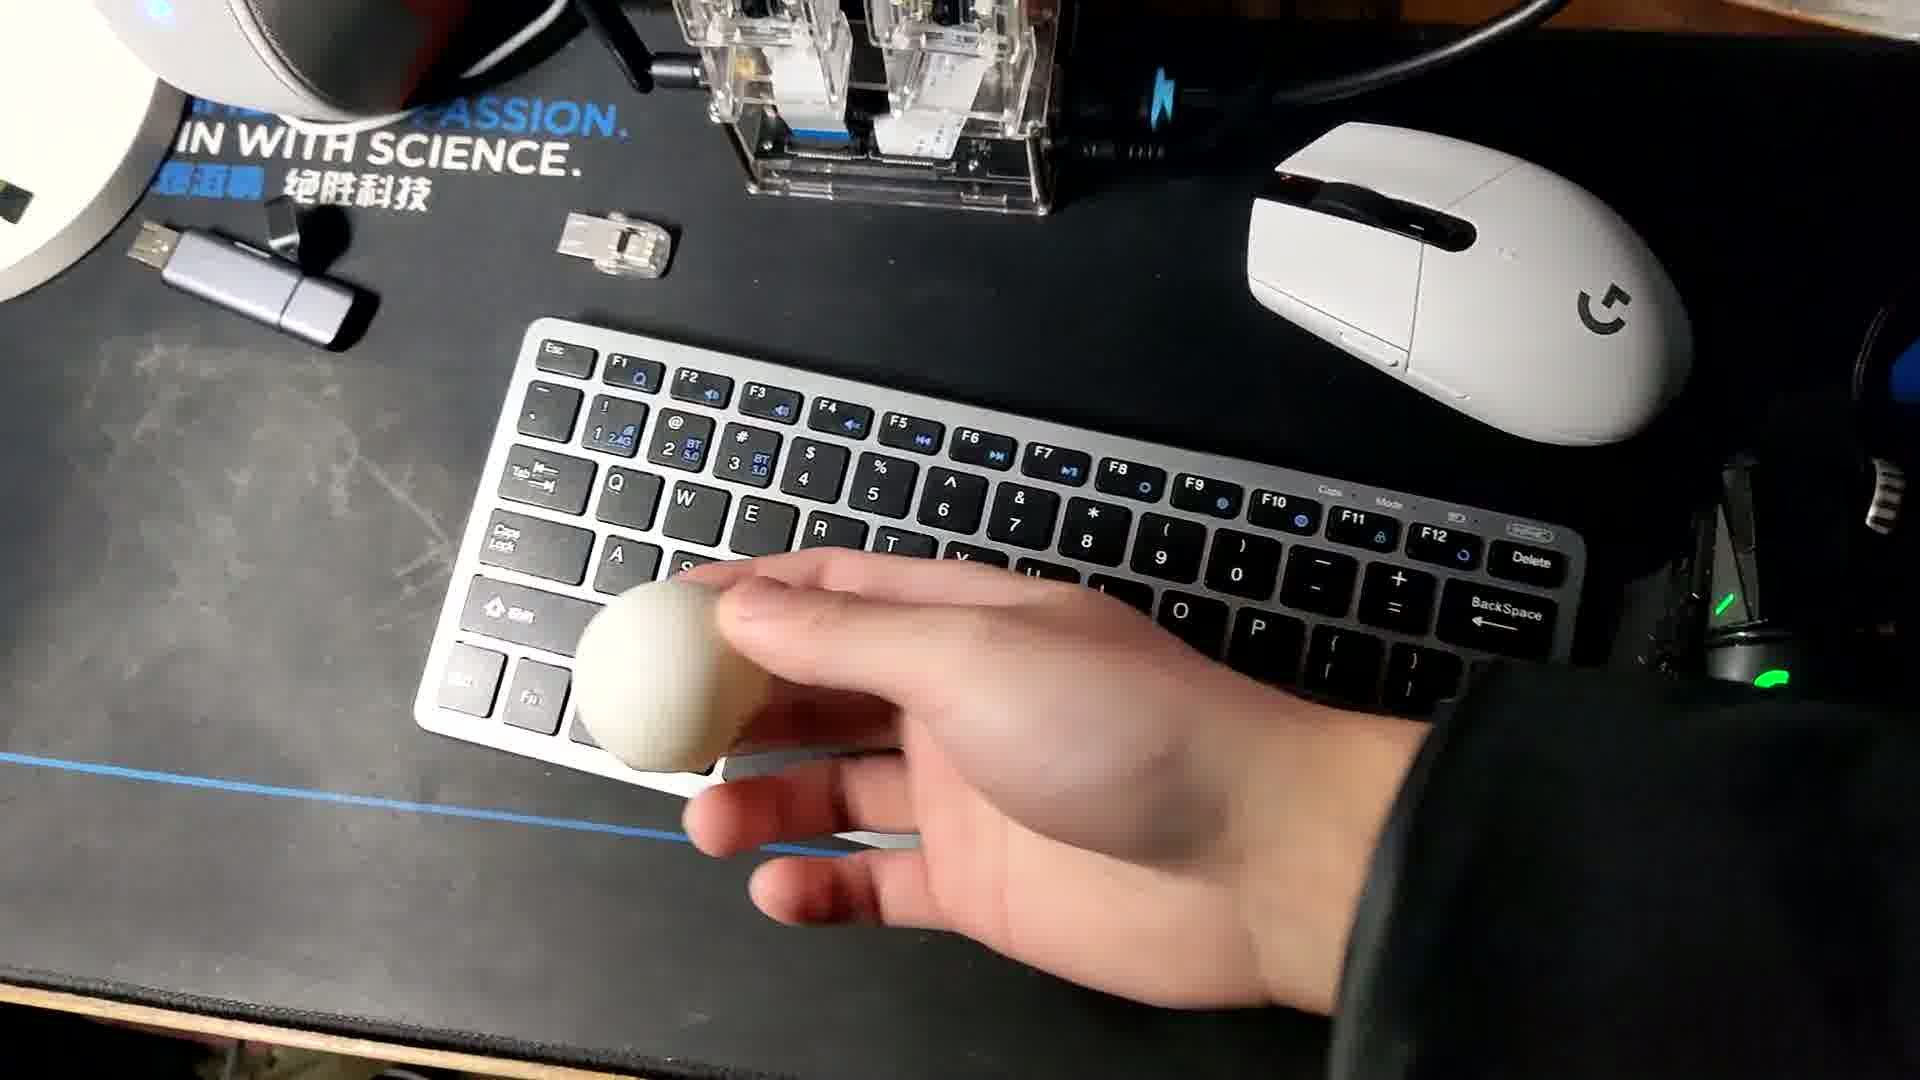Ball: (576, 582, 779, 770)
